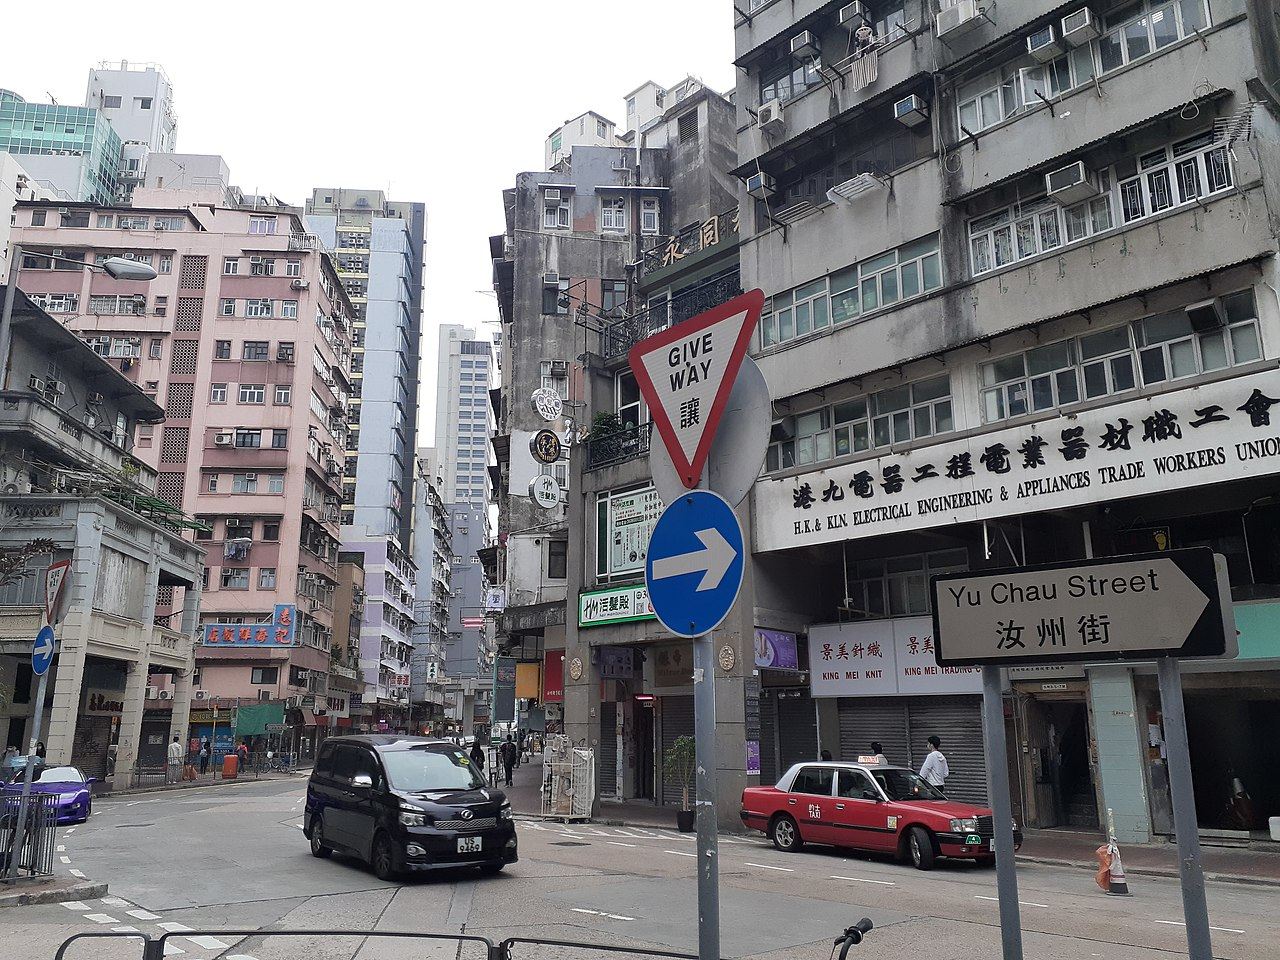Give Way: (622, 285, 774, 482)
Turn Right: (640, 487, 747, 645)
